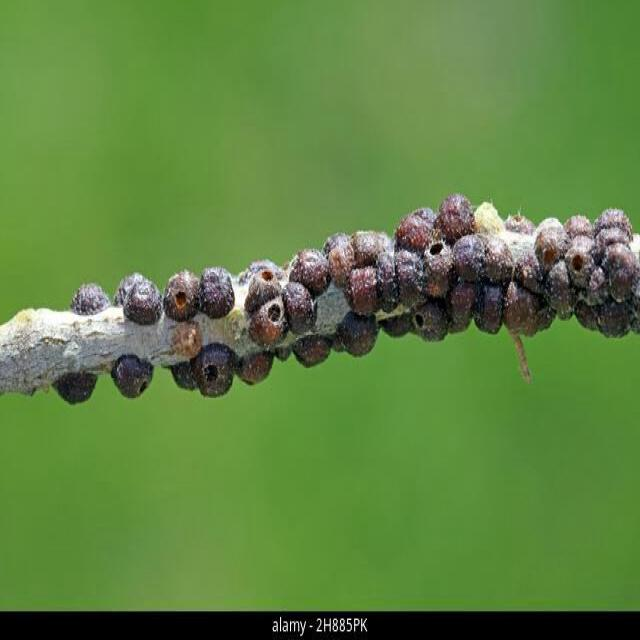Black Scale: (324, 189, 639, 377), (244, 249, 330, 348), (238, 335, 333, 384), (170, 342, 238, 400), (165, 266, 234, 321), (116, 272, 161, 325), (110, 354, 155, 401), (52, 371, 97, 404), (71, 283, 111, 314)
